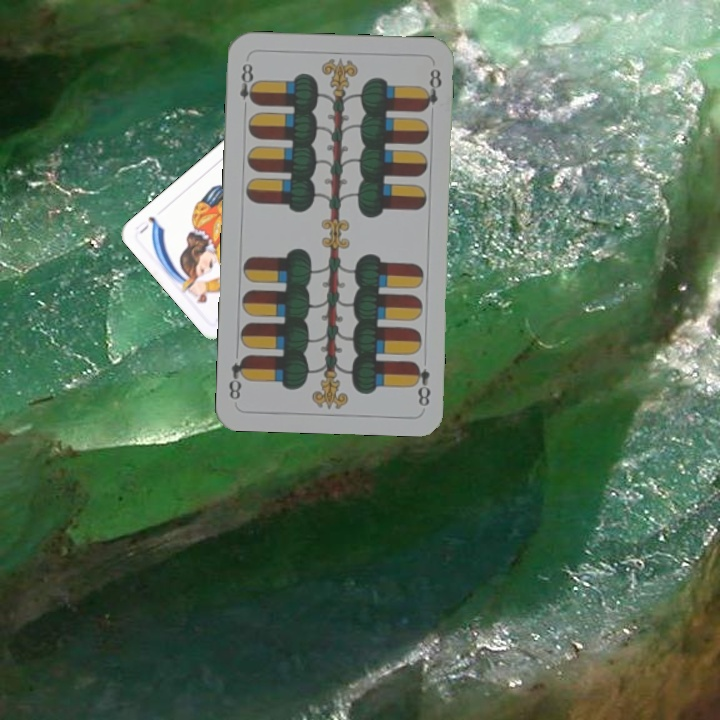E8: (409, 358, 434, 409), (236, 59, 259, 107)
